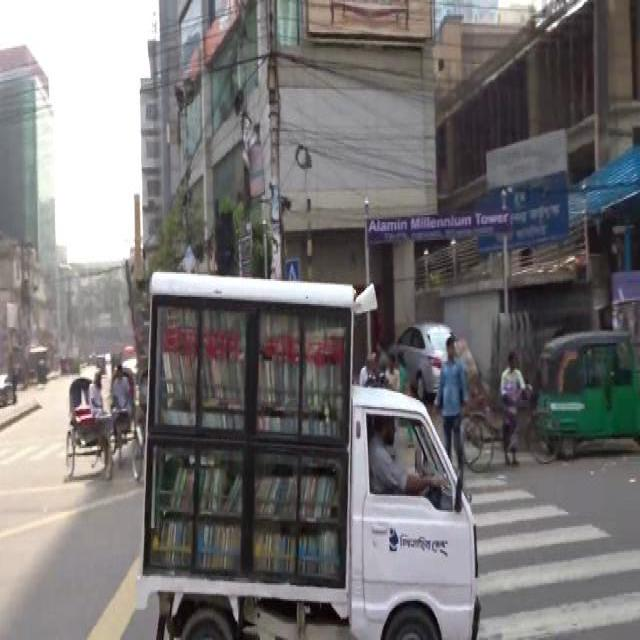car: (386, 319, 476, 396), (0, 369, 14, 403)
pickup: (140, 266, 480, 637)
rickshaw: (452, 334, 558, 470), (64, 376, 114, 477), (108, 366, 144, 478)
three wheelers -CNG-: (536, 331, 638, 455)
